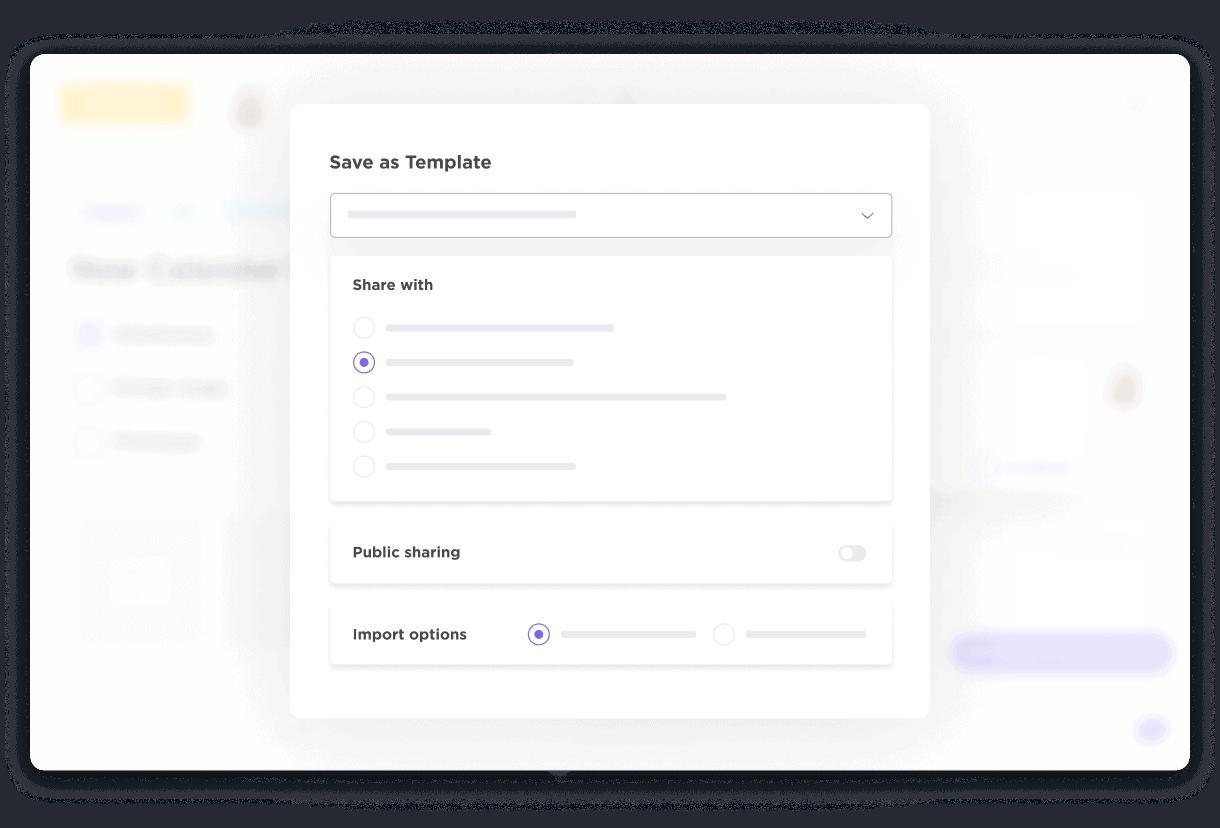dropdown: (330, 195, 893, 241)
label: (328, 151, 497, 177), (350, 621, 472, 648), (349, 544, 465, 569), (348, 272, 437, 297)
radio: (351, 454, 379, 483), (711, 622, 740, 650), (352, 349, 379, 378), (352, 313, 379, 341), (525, 623, 554, 649), (353, 419, 379, 447), (352, 385, 378, 411)
switch: (834, 541, 871, 567)
